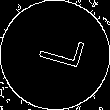L_W: (26, 33, 84, 77)
